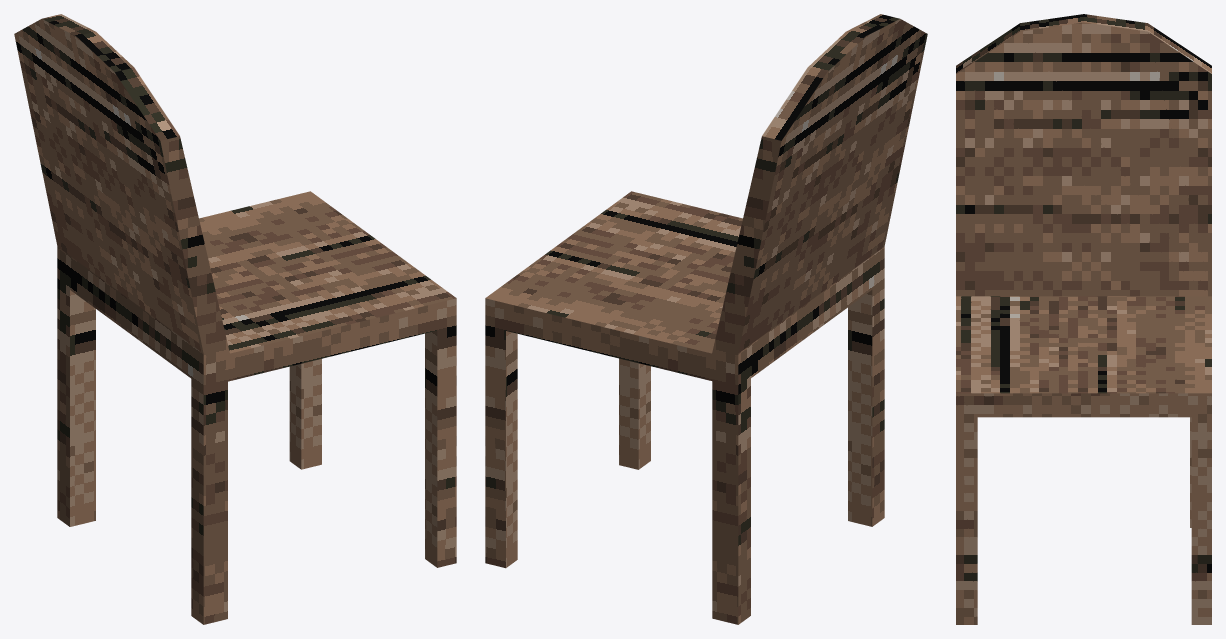
Rendered from chair.glb.
The picture shows the model from 3 angles, left to right: view 1: azimuth 30°, elevation 25°; view 2: azimuth 150°, elevation 25°; view 3: azimuth 270°, elevation 25°; orthographic projection. The views are drawn at different scales.
Parts seen in each view (by area): view 1: chair_normal-col; view 2: chair_normal-col; view 3: chair_normal-col.
Part boxes in pixels (box(x1,y1,x2,y2)): chair_normal-col: box(14, 14, 456, 624); chair_normal-col: box(485, 14, 927, 624); chair_normal-col: box(956, 14, 1211, 624).
Bounding box in the file's own units: 0.4406 × 0.7511 × 0.363.
1 material, 1 textured.
